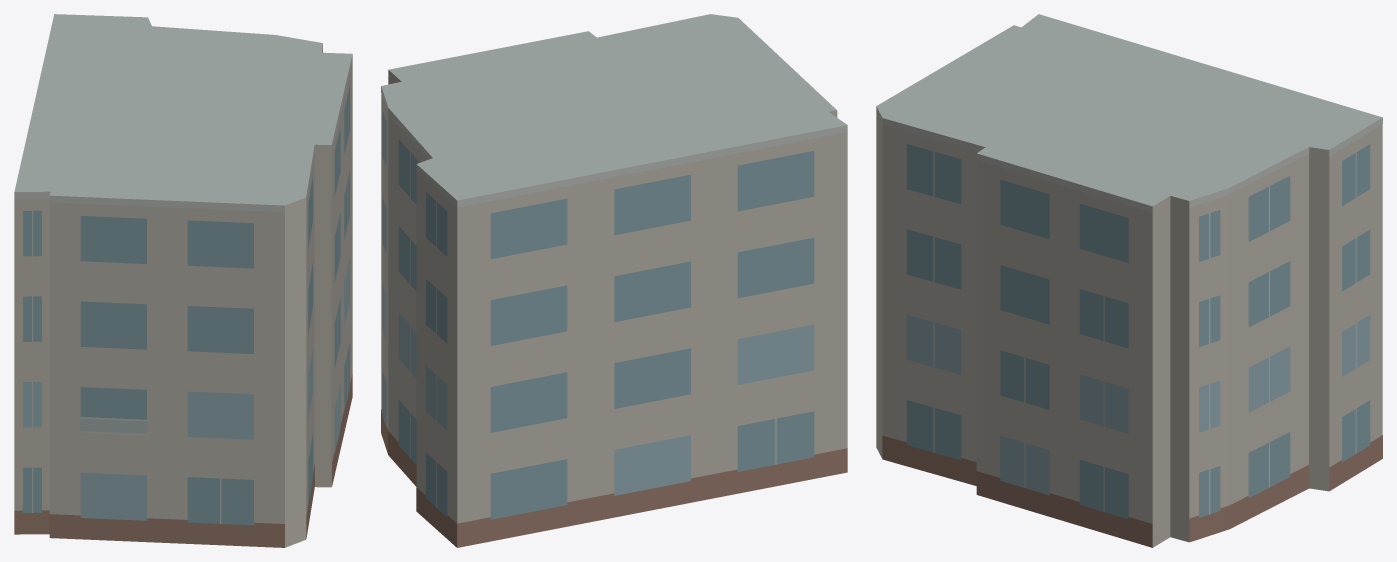
File: survey-upis-32667062.glb
3 renders of one model, left to right at view 1: azimuth 30°, elevation 25°; view 2: azimuth 150°, elevation 25°; view 3: azimuth 270°, elevation 25°, orthographic.
Visible parts, largest first — view 1: survey-upis-32667062.tmp; view 2: survey-upis-32667062.tmp; view 3: survey-upis-32667062.tmp.
Boxes of the visible parts, bbox=[...] form: survey-upis-32667062.tmp: bbox=[14, 14, 352, 547]; survey-upis-32667062.tmp: bbox=[381, 14, 847, 547]; survey-upis-32667062.tmp: bbox=[876, 14, 1382, 547].
Bounding box in the file's own units: 14.76 × 12.2 × 16.41.
